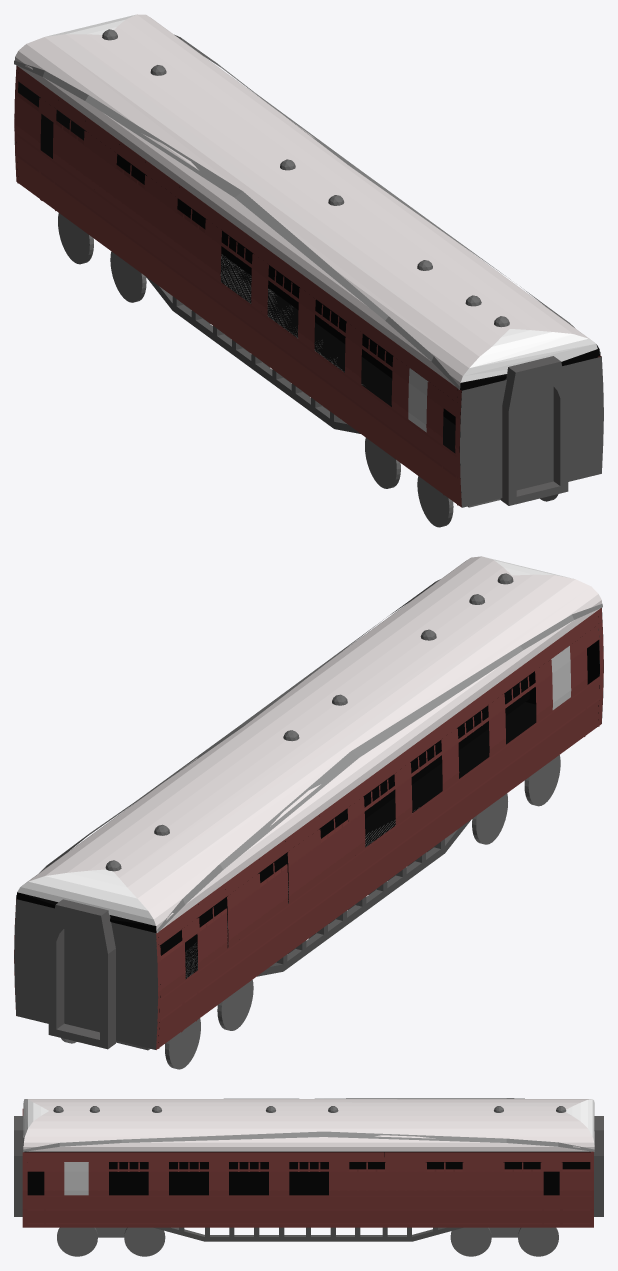
Rendered from lner-gresley-express-brake-m.dae.
3 views of the same model, one above another, from view 1: azimuth 30°, elevation 25°; view 2: azimuth 150°, elevation 25°; view 3: azimuth 270°, elevation 25° (orthographic). The views are drawn at different scales.
Parts seen in each view (by area): view 1: Suzanne_001, Plane_358, Plane_070, Tube_002, Suzanne_004, Plane_012, Plane_359, Plane_019, Plane_357, Plane_332, Plane_281, Plane_276 (+20 smaller); view 2: Suzanne_001, Plane_358, Plane_001, Tube_004, Suzanne_004, Plane_012, Plane_019, Plane_359, Plane_357, Plane_332, Plane_281, Plane_276 (+19 smaller); view 3: Suzanne_001, Plane_007, Plane_019, Plane_006, Suzanne_003, Plane_005, Plane_158, Plane_079, Plane_239, Plane_242, Plane_077, Plane_078 (+28 smaller).
Boxes of the visible parts, bbox=[...] form: Suzanne_001: bbox=[15, 14, 599, 389]; Plane_358: bbox=[14, 138, 461, 507]; Plane_070: bbox=[460, 356, 603, 507]; Tube_002: bbox=[500, 356, 568, 505]; Suzanne_004: bbox=[14, 60, 459, 389]; Plane_012: bbox=[220, 254, 461, 498]; Plane_359: bbox=[15, 72, 461, 404]; Plane_019: bbox=[116, 144, 455, 424]; Plane_357: bbox=[14, 131, 459, 463]; Plane_332: bbox=[179, 185, 440, 381]; Plane_281: bbox=[146, 176, 177, 247]; Plane_276: bbox=[85, 131, 116, 203]; Suzanne_001: bbox=[16, 556, 601, 933]; Plane_358: bbox=[156, 681, 603, 1049]; Plane_001: bbox=[14, 899, 158, 1049]; Tube_004: bbox=[48, 899, 115, 1049]; Suzanne_004: bbox=[157, 603, 602, 932]; Plane_012: bbox=[185, 702, 536, 978]; Plane_019: bbox=[160, 675, 529, 955]; Plane_359: bbox=[156, 614, 602, 947]; Plane_357: bbox=[157, 673, 603, 1006]; Plane_332: bbox=[319, 623, 580, 820]; Plane_281: bbox=[288, 829, 319, 901]; Plane_276: bbox=[227, 874, 258, 945]; Suzanne_001: bbox=[23, 1099, 594, 1151]; Plane_007: bbox=[22, 1200, 593, 1227]; Plane_019: bbox=[24, 1151, 590, 1195]; Plane_006: bbox=[22, 1157, 593, 1161]; Suzanne_003: bbox=[23, 1131, 594, 1151]; Plane_005: bbox=[22, 1195, 593, 1199]; Plane_158: bbox=[50, 1152, 383, 1157]; Plane_079: bbox=[26, 1195, 591, 1196]; Plane_239: bbox=[386, 1162, 425, 1195]; Plane_242: bbox=[464, 1162, 502, 1195]; Plane_077: bbox=[27, 1209, 590, 1210]; Plane_078: bbox=[27, 1223, 590, 1224].
Size of the model in its own units: 2.08 by 11.39 by 2.82.
